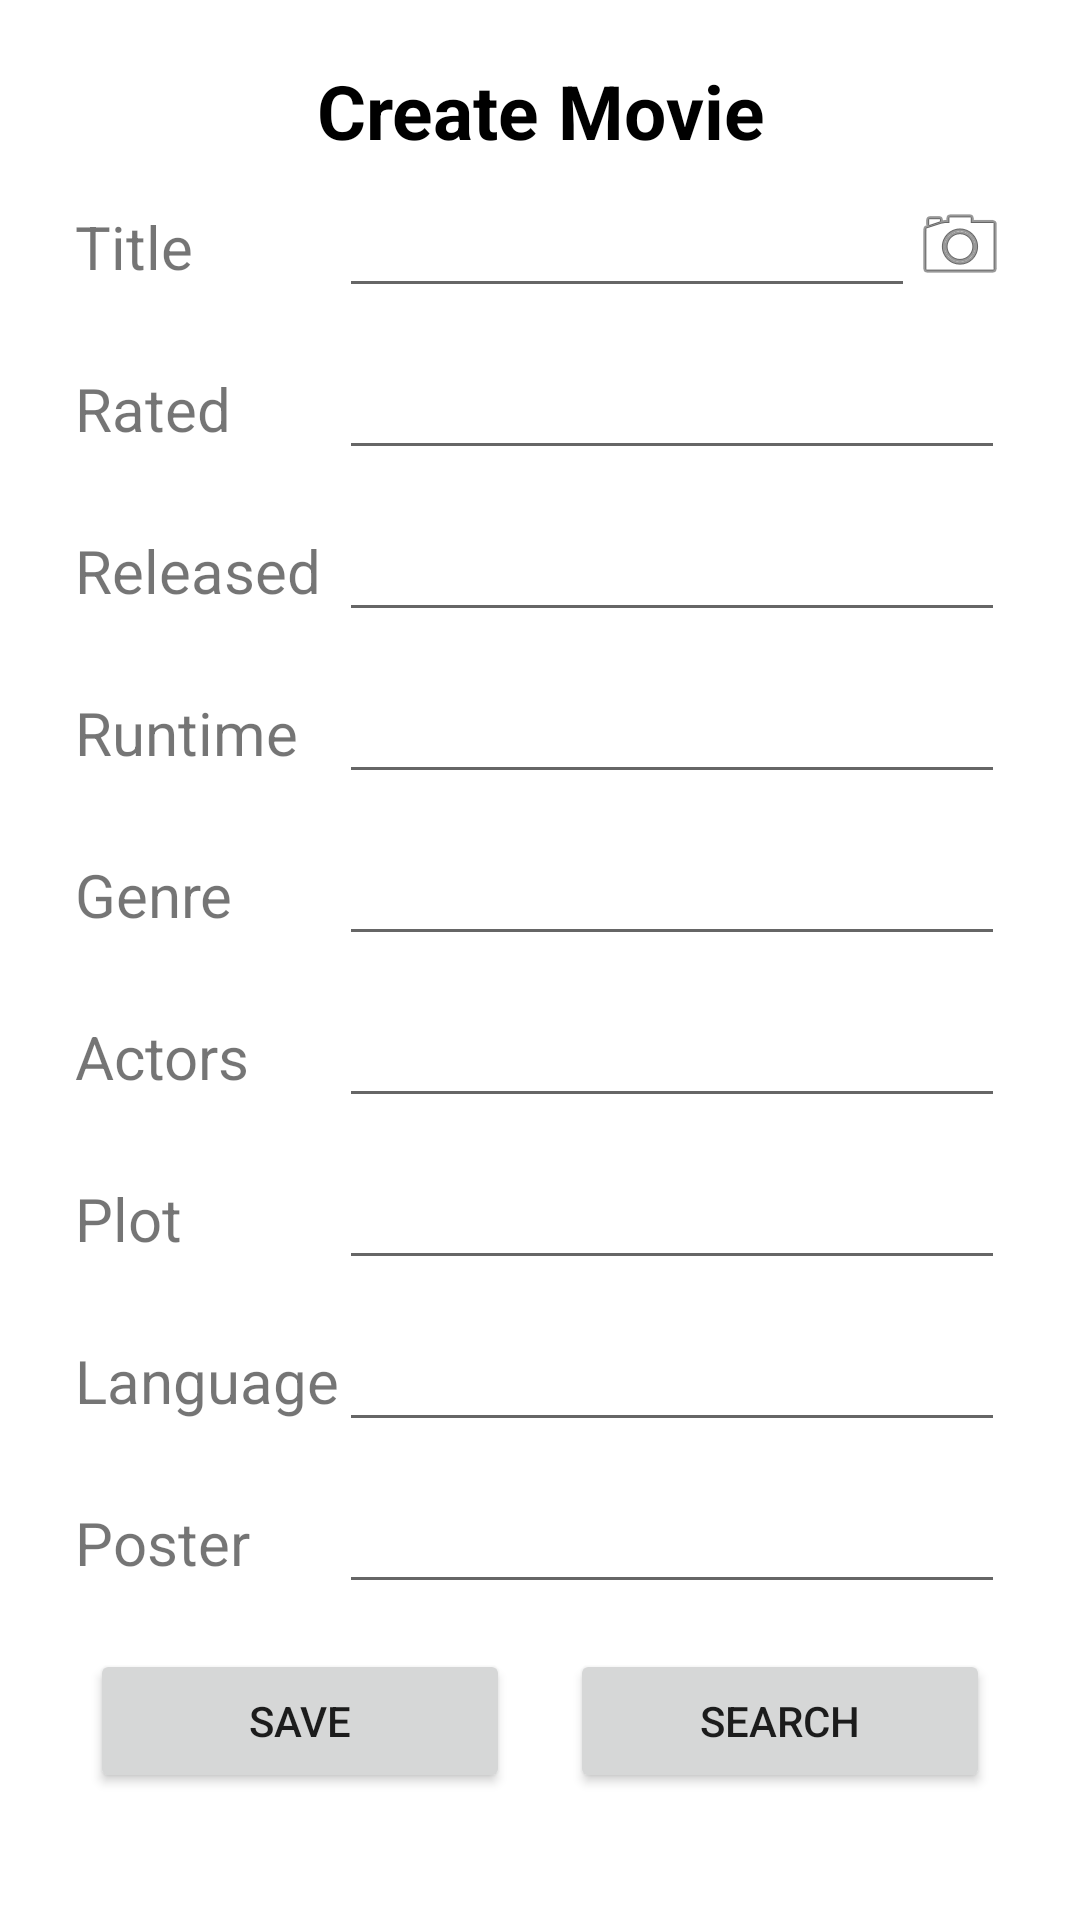

Icon bounding boxes for this 1080px×1920px phone screenshot, format (x1=x1, y1=y1, x2=x2, y2=y2):
camera: (x1=923, y1=214, x2=997, y2=273)
